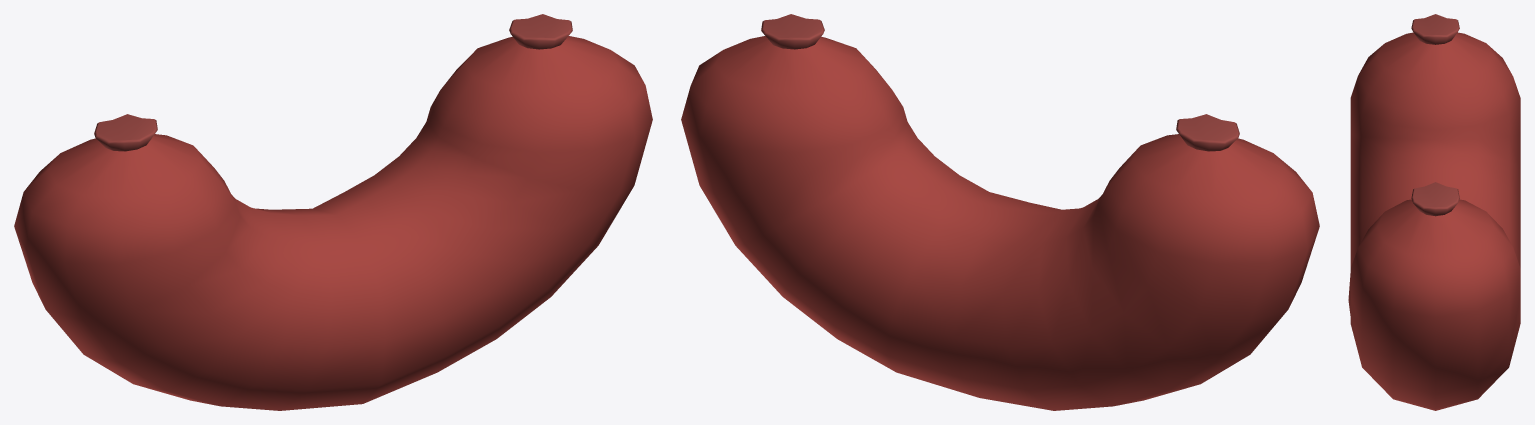
Rendered from Sausage_mini.003.fbx.
3 views of the same model, side by side, from view 1: azimuth 30°, elevation 25°; view 2: azimuth 150°, elevation 25°; view 3: azimuth 270°, elevation 25° (orthographic). The views are drawn at different scales.
Visible parts, largest first — view 1: Sausage_mini.003; view 2: Sausage_mini.003; view 3: Sausage_mini.003.
Boxes of the visible parts, left/top/right/bottom form: Sausage_mini.003: left=14, top=14, right=652, bottom=410; Sausage_mini.003: left=681, top=14, right=1319, bottom=410; Sausage_mini.003: left=1348, top=14, right=1520, bottom=410.
Size of the model in its own units: 123 by 35.62 by 61.27.
